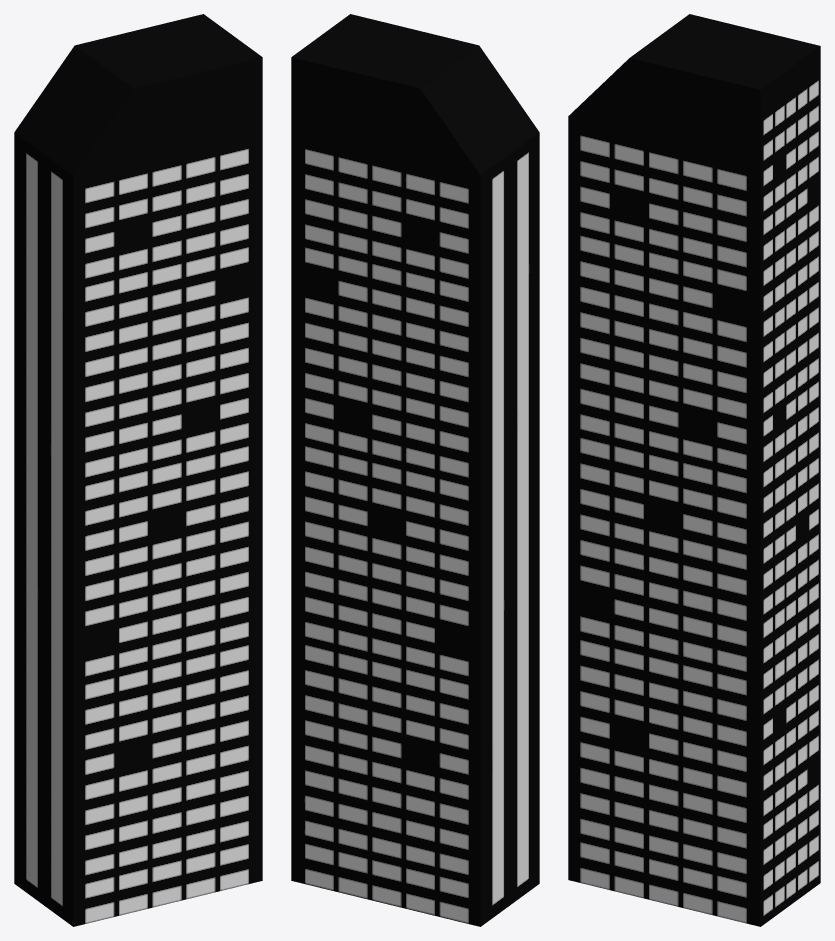
The model's file is building_03.FBX.
The picture shows the model from 3 angles, left to right: view 1: azimuth 30°, elevation 25°; view 2: azimuth 150°, elevation 25°; view 3: azimuth 330°, elevation 25°; orthographic projection.
Parts seen in each view (by area): view 1: building_03; view 2: building_03; view 3: building_03.
Part boxes in pixels (box(x1,y1,x2,y2)): building_03: box(14, 14, 262, 926); building_03: box(291, 14, 539, 926); building_03: box(568, 14, 820, 926).
Bounding box in the file's own units: 152 × 633 × 82.21.
